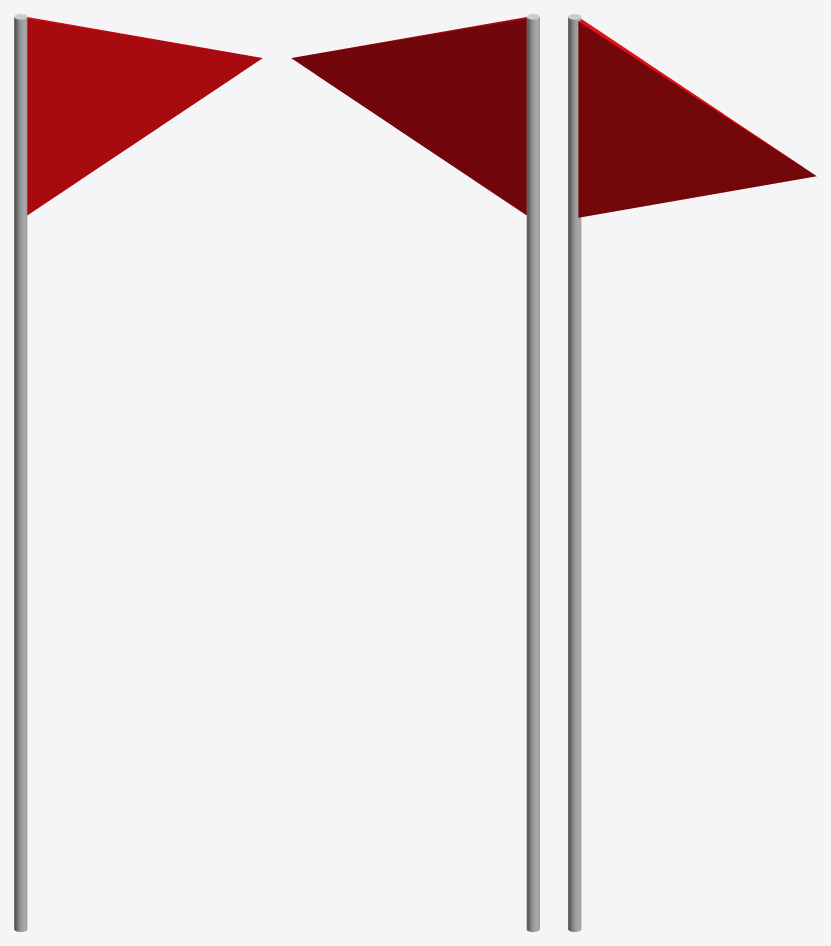
The model's file is flag.fbx.
3 renders of one model, left to right at view 1: azimuth 30°, elevation 25°; view 2: azimuth 150°, elevation 25°; view 3: azimuth 330°, elevation 25°, orthographic.
Visible parts, largest first — view 1: flag, Pole; view 2: flag, Pole; view 3: flag, Pole.
Part boxes in pixels (x1,y1,x2,y2): flag: [27, 17, 262, 214]; Pole: [14, 14, 27, 931]; flag: [291, 17, 526, 214]; Pole: [526, 14, 539, 931]; flag: [578, 19, 816, 217]; Pole: [568, 14, 581, 931].
Size of the model in its own units: 85.32 by 300 by 4.
